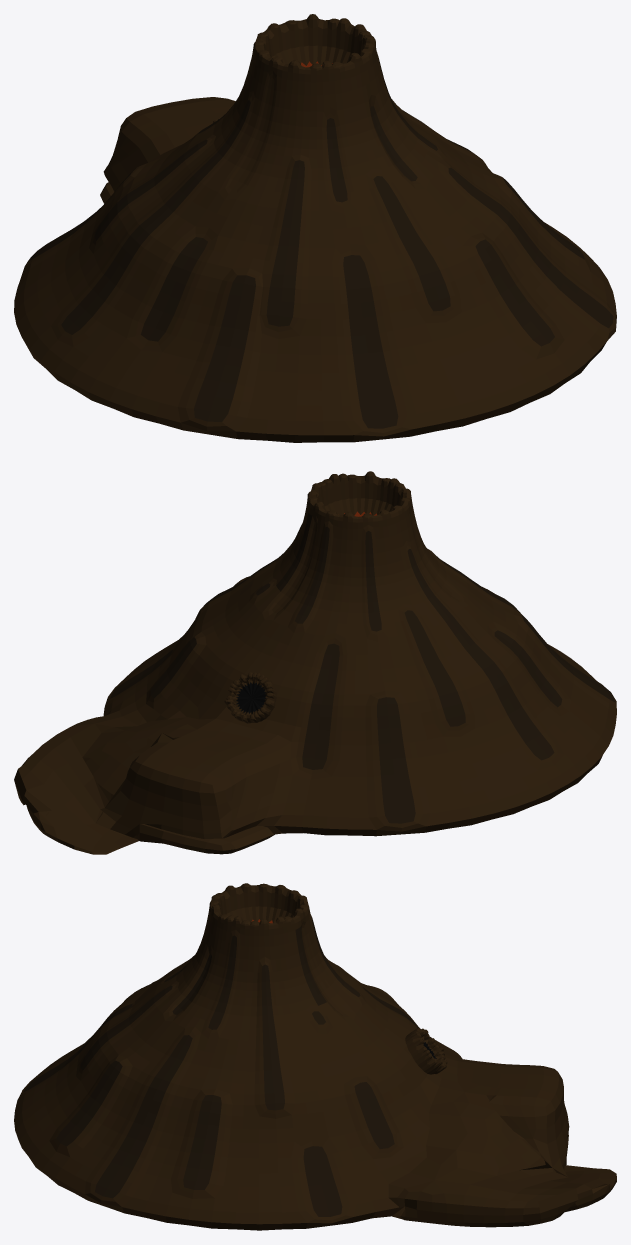
Rendered from volcano.fbx.
3 views of the same model, one above another, from view 1: azimuth 30°, elevation 25°; view 2: azimuth 150°, elevation 25°; view 3: azimuth 270°, elevation 25° (orthographic). The views are drawn at different scales.
Visible parts, largest first — view 1: Volcano; view 2: Volcano, Cylinder; view 3: Volcano, Cylinder.
Boxes of the visible parts, x1,y1,x2,y2 form: Volcano: [14, 14, 616, 442]; Volcano: [14, 471, 616, 854]; Cylinder: [224, 672, 276, 723]; Volcano: [14, 883, 616, 1230]; Cylinder: [405, 1028, 447, 1074].
Bounding box in the file's own units: 1469 × 784 × 1804.
